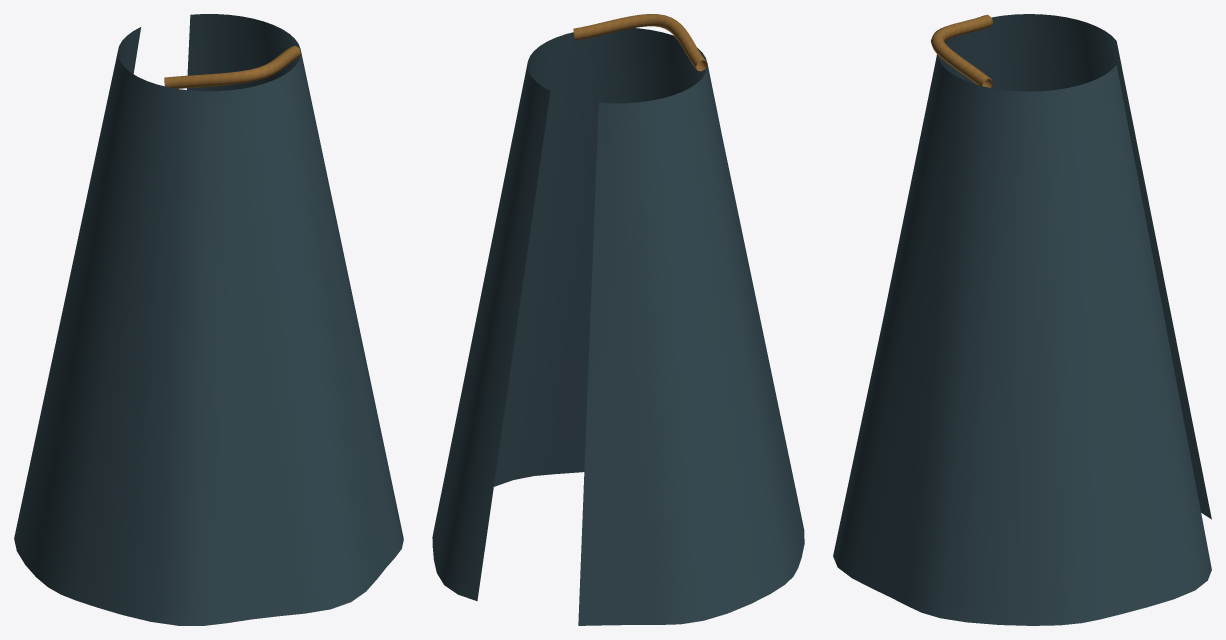
3 renders of one model, left to right at view 1: azimuth 30°, elevation 25°; view 2: azimuth 150°, elevation 25°; view 3: azimuth 270°, elevation 25°, orthographic.
Parts seen in each view (by area): view 1: cloth.0, brass.1; view 2: cloth.0, brass.1; view 3: cloth.0, brass.1.
Boxes of the visible parts, left/top/right/bottom form: cloth.0: left=14, top=14, right=403, bottom=625; brass.1: left=164, top=45, right=300, bottom=88; cloth.0: left=432, top=28, right=804, bottom=625; brass.1: left=573, top=14, right=707, bottom=71; cloth.0: left=833, top=14, right=1211, bottom=625; brass.1: left=930, top=14, right=992, bottom=87.
Bounding box in the file's own units: 0.9199 × 1.35 × 0.9075.
2 materials, 2 textured.
